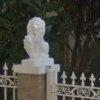Statue: (13, 11, 60, 77)
